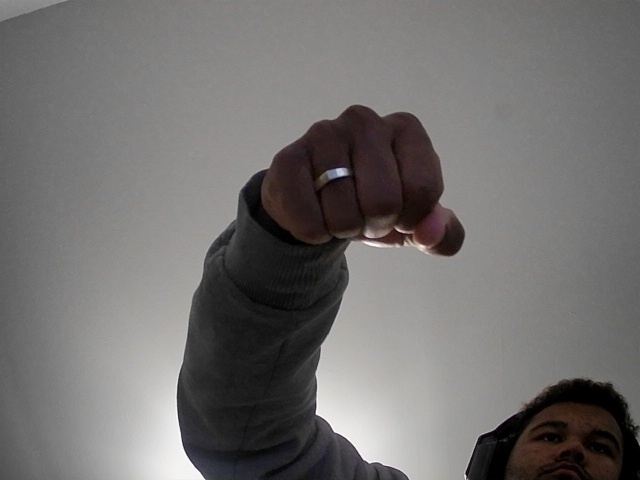Yes: (243, 88, 473, 263)
